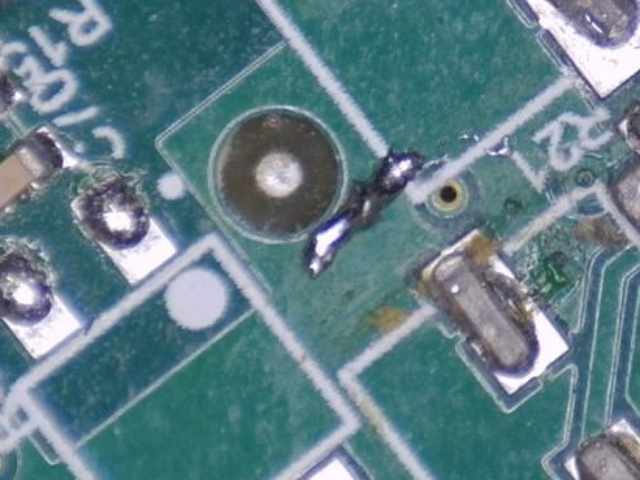pcb_defect: (607, 95, 640, 274)
